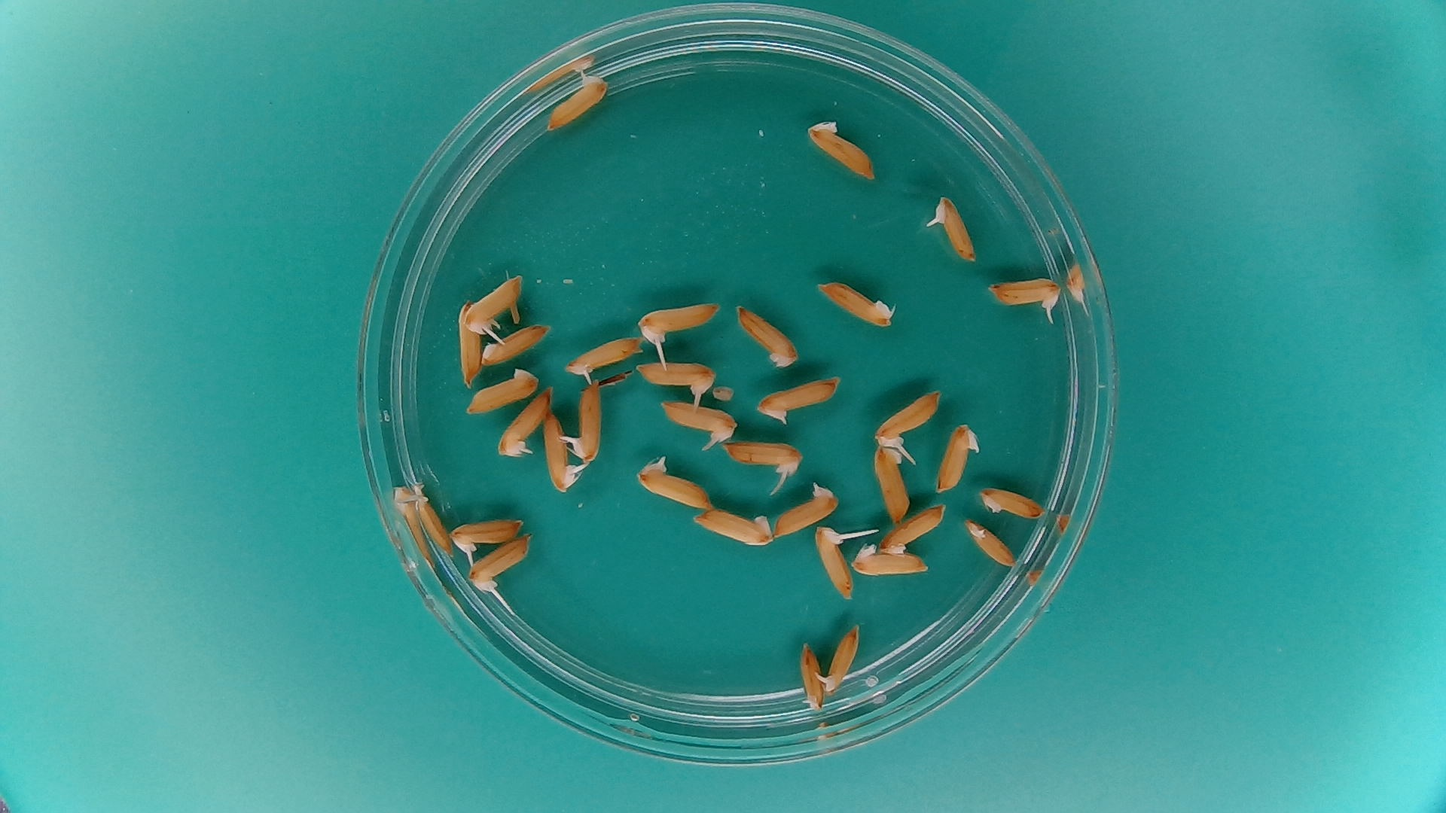no: (804, 117, 878, 181), (812, 276, 898, 331), (731, 301, 801, 367), (463, 367, 540, 416), (688, 507, 775, 550), (879, 504, 947, 556), (936, 423, 979, 496), (850, 544, 935, 580), (873, 446, 909, 523), (481, 323, 550, 363), (966, 521, 1021, 569), (456, 299, 483, 391), (794, 637, 826, 714), (981, 488, 1046, 521)
yes: (872, 388, 944, 450), (498, 386, 554, 458), (546, 72, 612, 131), (632, 461, 710, 510), (560, 333, 645, 377), (773, 485, 840, 540), (468, 268, 526, 330), (985, 276, 1066, 320), (638, 300, 718, 344), (469, 535, 534, 589), (759, 376, 840, 419), (819, 620, 864, 696), (931, 196, 981, 263), (723, 440, 804, 480), (659, 402, 738, 442), (815, 523, 854, 602), (541, 409, 576, 494), (411, 486, 452, 556), (571, 377, 603, 464), (636, 361, 718, 394), (448, 518, 529, 547)
